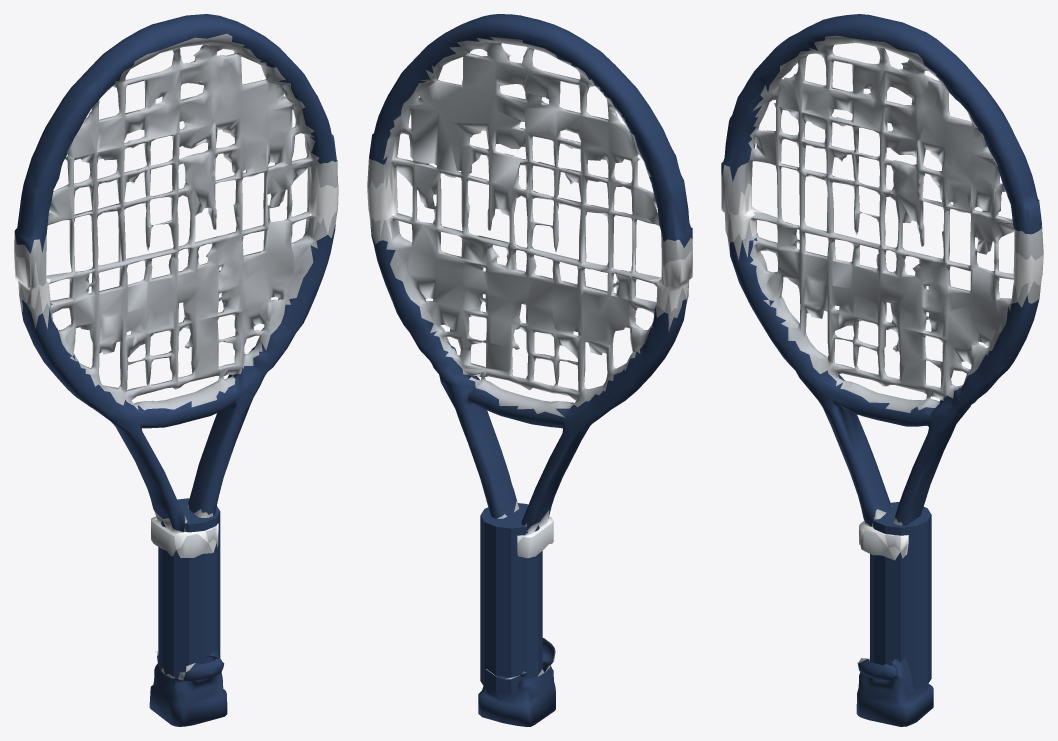
File: racket.glb
3 views of the same model, side by side, from view 1: azimuth 30°, elevation 25°; view 2: azimuth 150°, elevation 25°; view 3: azimuth 330°, elevation 25° (orthographic).
Parts seen in each view (by area): view 1: Racket; view 2: Racket; view 3: Racket.
Part boxes in pixels (<box>): Racket: <box>14,14,338,726</box>; Racket: <box>367,14,692,726</box>; Racket: <box>721,14,1043,726</box>.
Bounding box in the file's own units: 0.2696 × 0.5659 × 0.0598.
